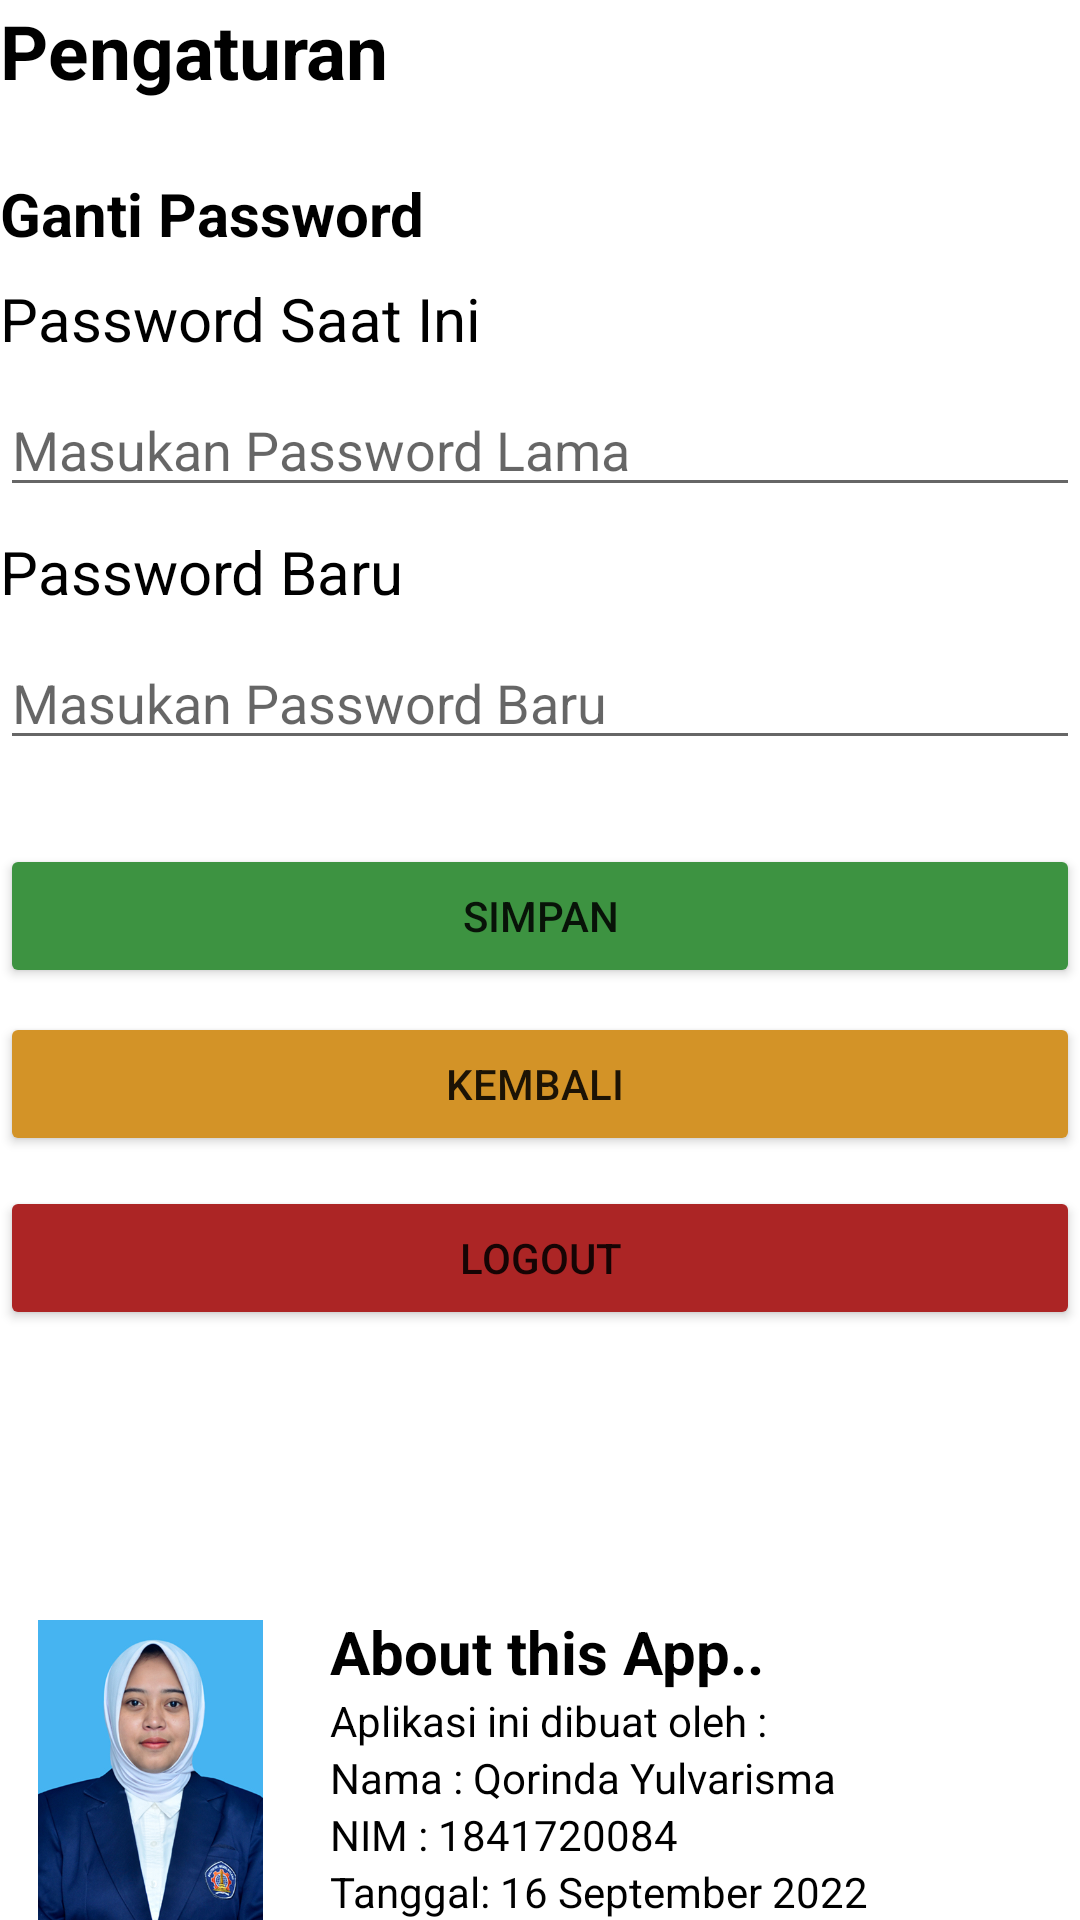

Locate icon controls on the screen. Image size 1080 × 1920, boxes as (x1, y1, x2, y2).
aku: (38, 1620, 263, 1920)
